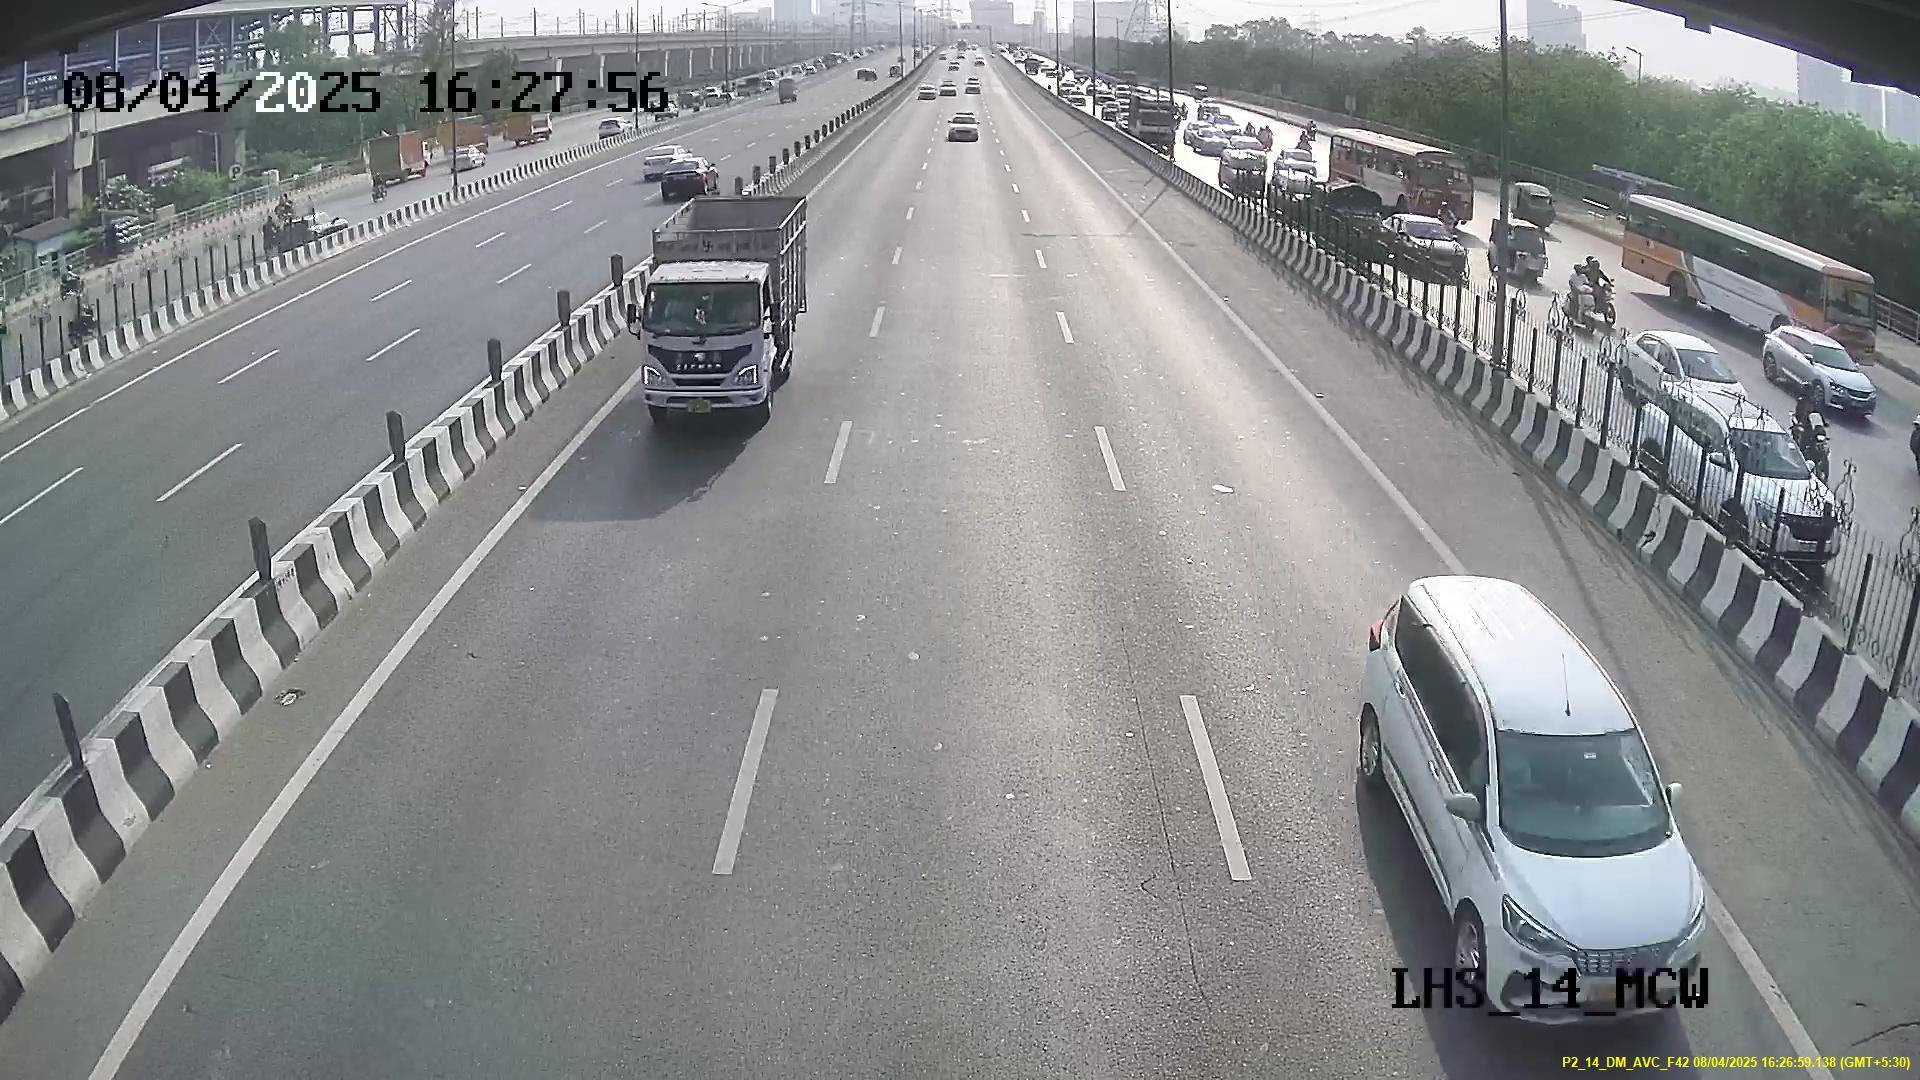lcv: (630, 262, 783, 426)
